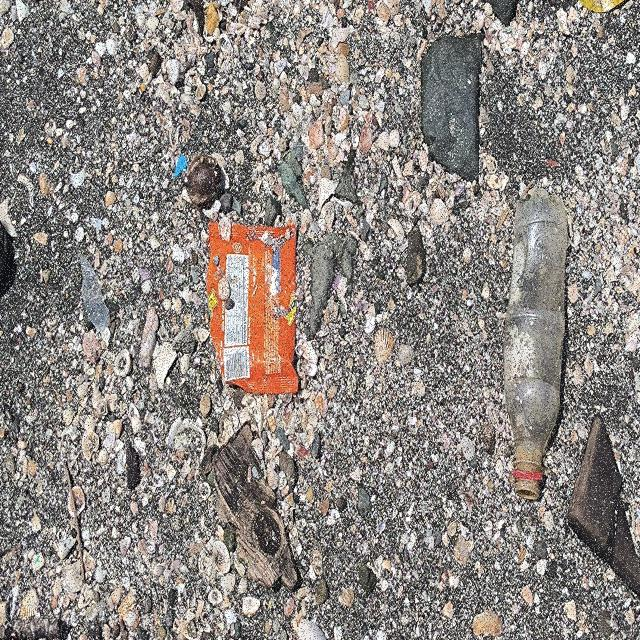plastic_waste: (503, 188, 569, 503), (208, 222, 300, 395)
